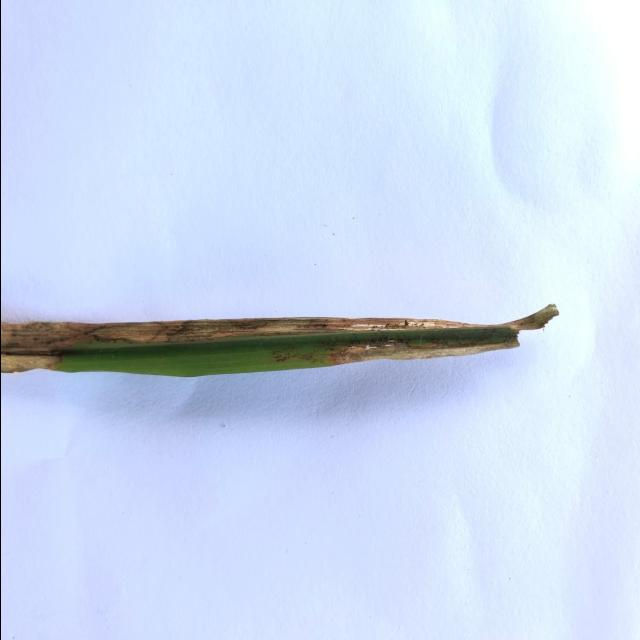Leaf Blight: (0, 304, 556, 374), (324, 335, 518, 364)
